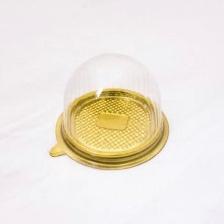plastic_box: (43, 42, 179, 176)
